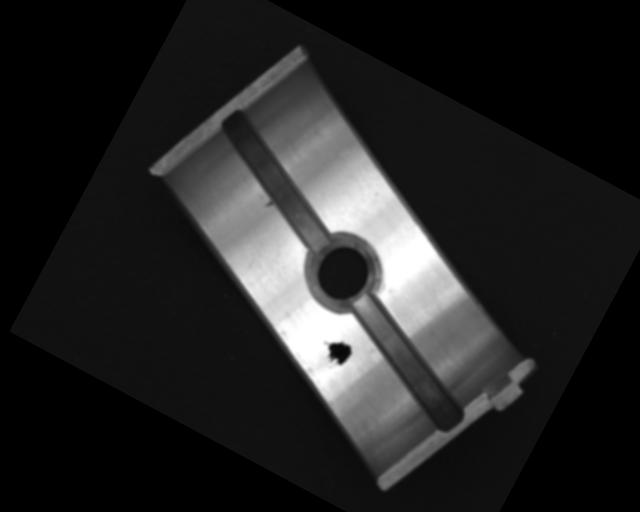blot: (313, 332, 356, 376)
bruise: (263, 197, 276, 211)
gap: (189, 107, 361, 256), (321, 292, 490, 436)
hole: (296, 225, 387, 318)
